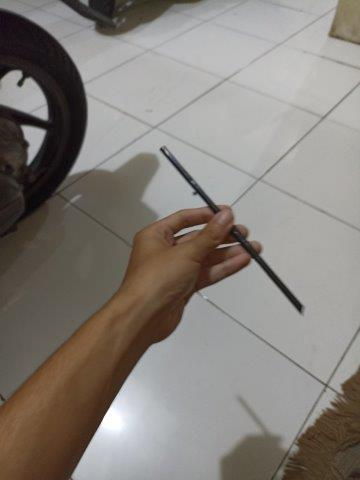sedotan: (160, 146, 303, 314)
